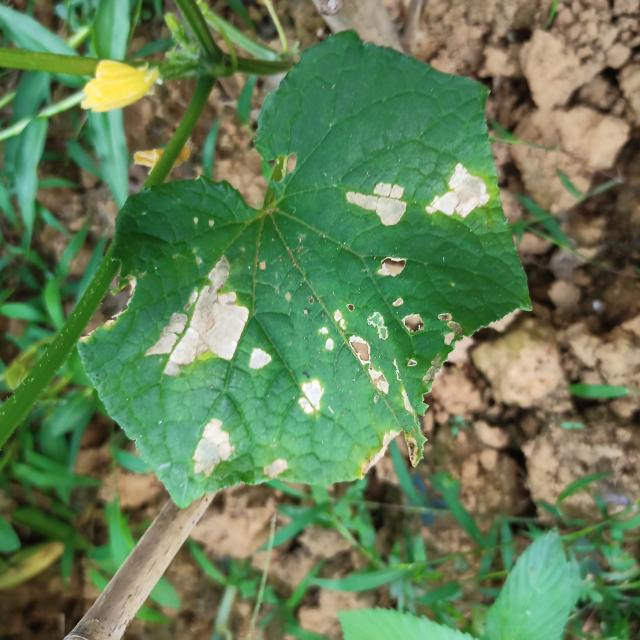disease_cucumber: (156, 245, 327, 485), (331, 252, 448, 410), (334, 148, 494, 248)
